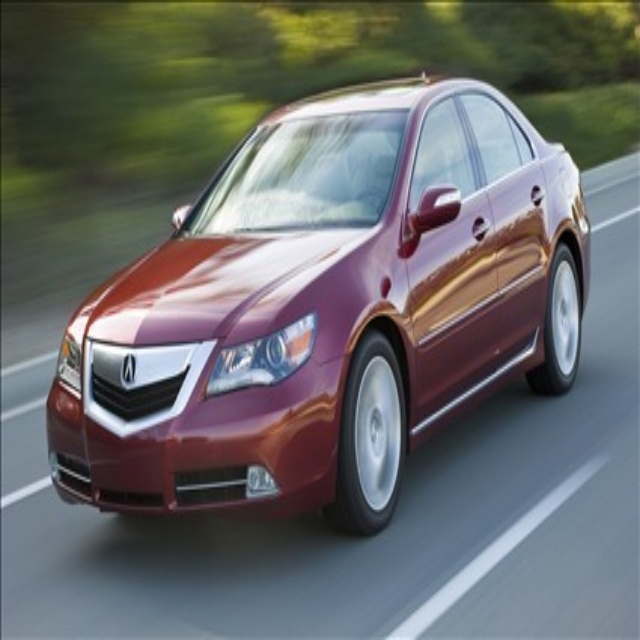Car: (45, 70, 590, 537)
